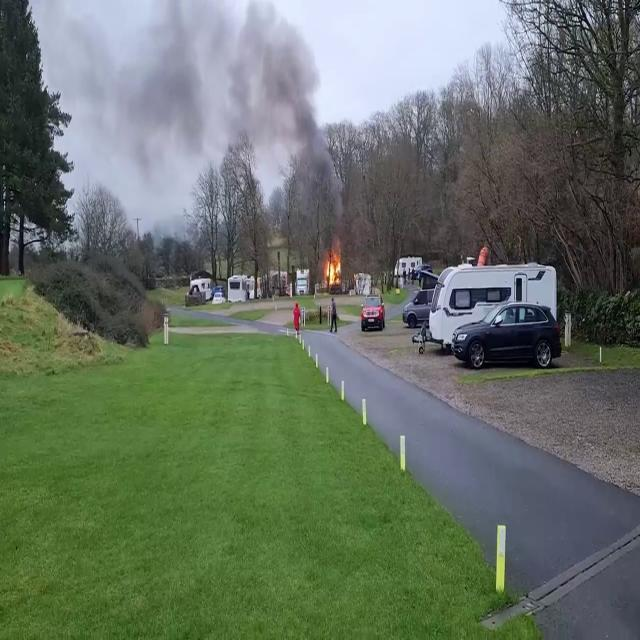Fire: (322, 246, 344, 288)
Smoke: (115, 0, 347, 232)
